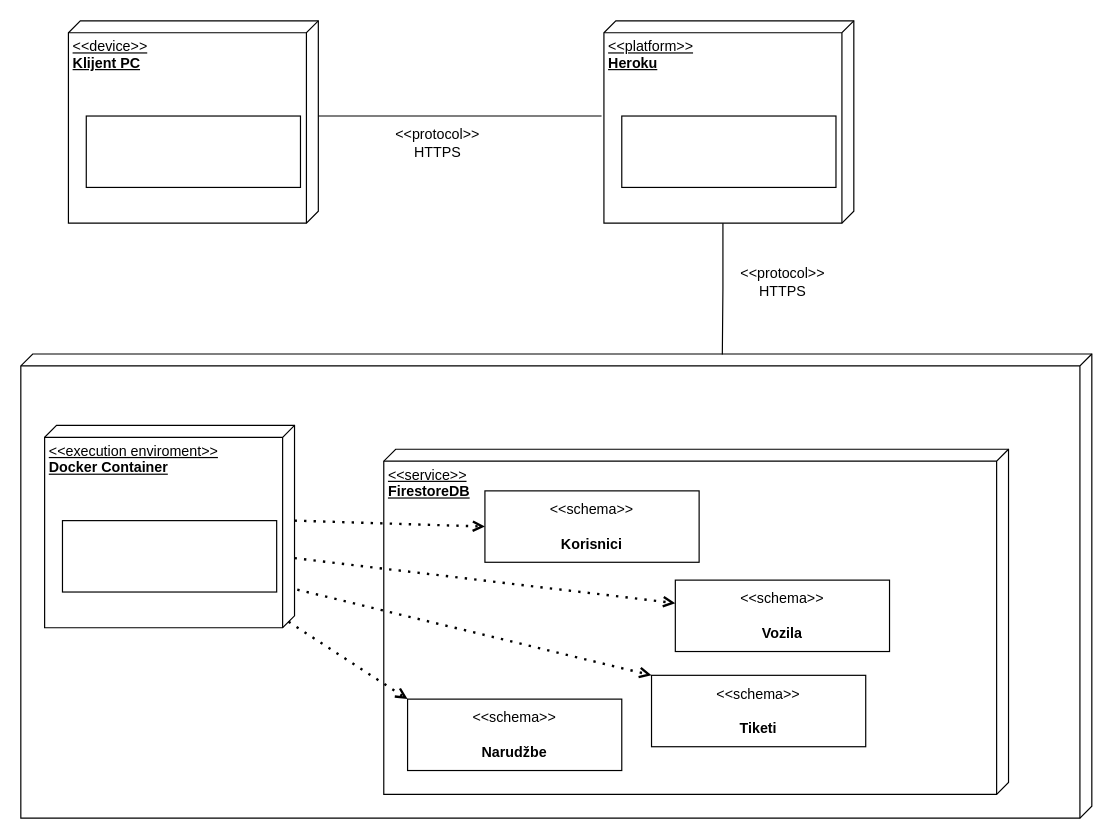
Some shapes in this 1113 by 839 pixel diagram are drawn without their labels. The shapes that lost their labels are listed below. From the top down, each one's box as (x1, y1, x2, y2) in pixels, then its label:
(85, 115, 300, 187): <<artifact>> Web Preglednik
(621, 115, 836, 187): <<artifact>> Vue.js Frontend
(61, 519, 277, 592): <<artifact>> Laravel Backend
(20, 353, 1092, 818): <<platform>> Firebase
